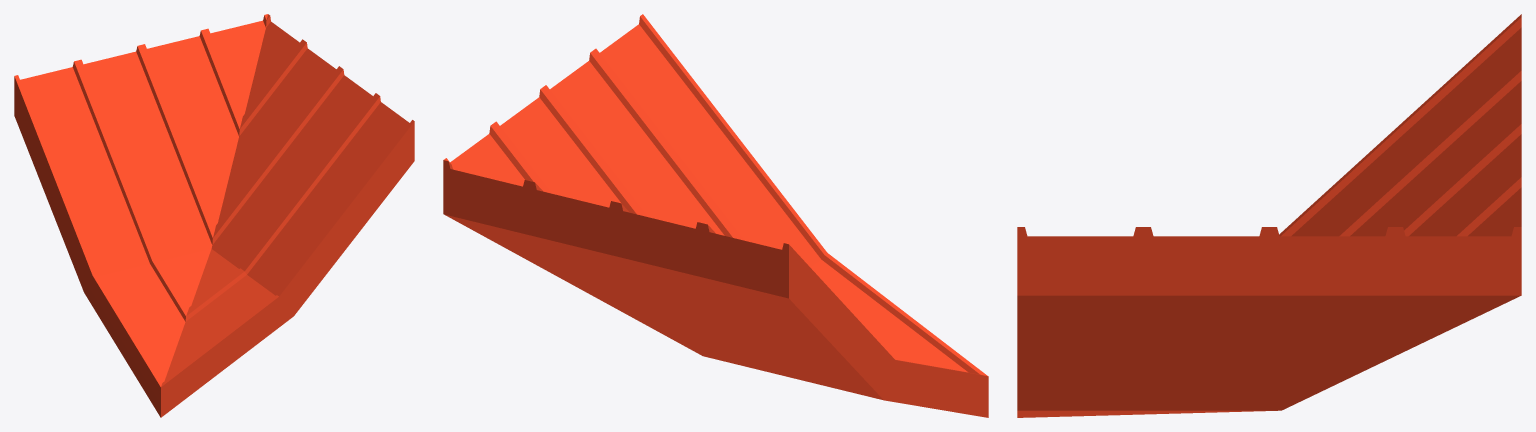
File: roof-metal-moderate-regular-2x2m-corner-b.fbx
The picture shows the model from 3 angles, left to right: view 1: azimuth 30°, elevation 25°; view 2: azimuth 150°, elevation 25°; view 3: azimuth 270°, elevation 25°; orthographic projection. The views are drawn at different scales.
Visible parts, largest first — view 1: roof-metal-moderate-regular-2x2m-corner-b; view 2: roof-metal-moderate-regular-2x2m-corner-b; view 3: roof-metal-moderate-regular-2x2m-corner-b.
Boxes of the visible parts, <box> form: roof-metal-moderate-regular-2x2m-corner-b: <box>14,14,414,417</box>; roof-metal-moderate-regular-2x2m-corner-b: <box>443,14,988,417</box>; roof-metal-moderate-regular-2x2m-corner-b: <box>1017,14,1521,417</box>.
Bounding box in the file's own units: 2 × 1.77 × 2.
